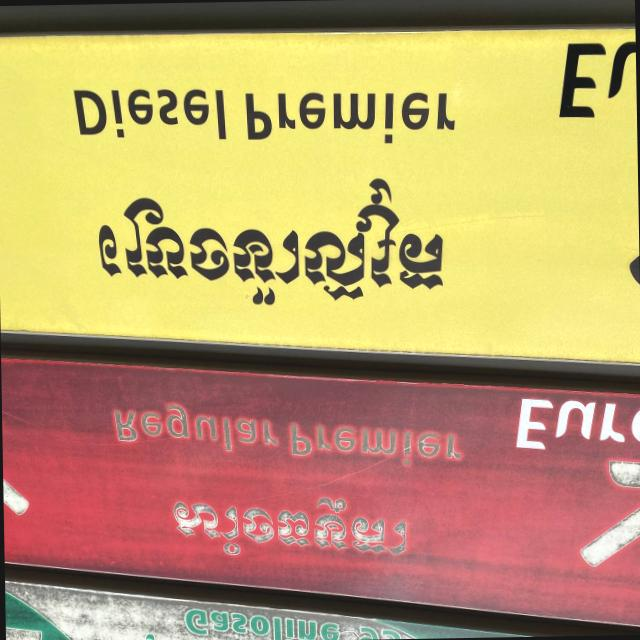Yolov11_80vkh: (85, 173, 456, 310), (166, 477, 423, 570)
